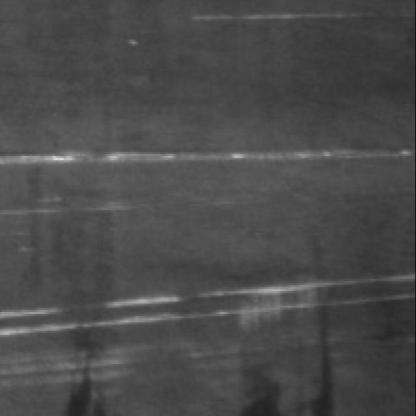inclusion: (291, 283, 339, 414), (56, 300, 104, 414), (239, 337, 283, 414)
scratches: (0, 268, 410, 333), (0, 129, 408, 171)
